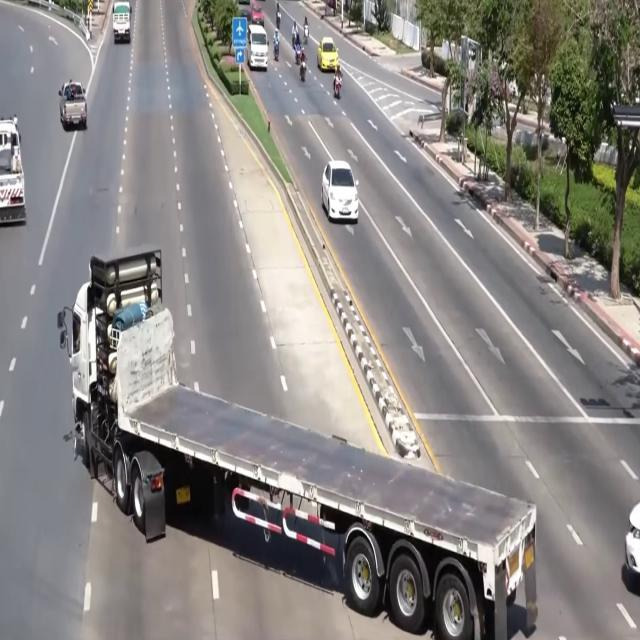car: (321, 160, 358, 223), (624, 504, 639, 590), (317, 37, 338, 71), (251, 3, 264, 25), (240, 5, 250, 23)
scooty: (334, 76, 341, 99), (300, 59, 306, 82), (274, 42, 280, 61), (295, 45, 301, 64), (276, 11, 281, 30), (304, 25, 308, 45)
truck: (57, 247, 537, 639), (0, 117, 25, 224), (58, 80, 87, 130), (113, 0, 131, 43)
